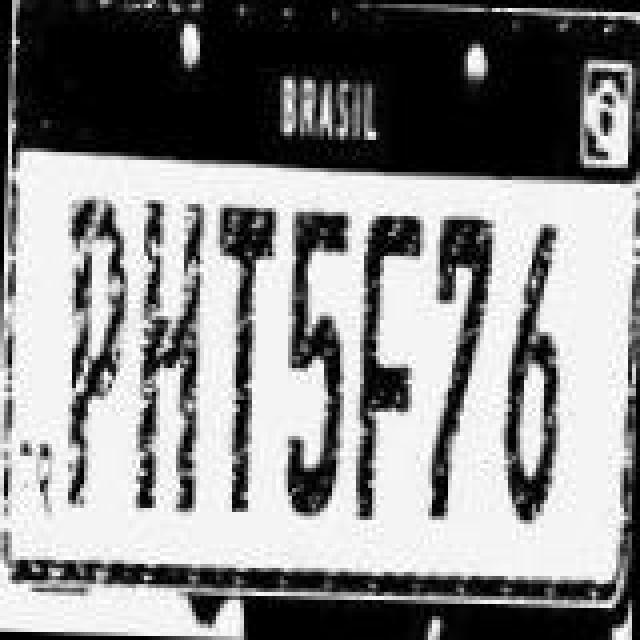5: (274, 202, 354, 518)
6: (494, 216, 574, 536)
7: (420, 206, 496, 522)
F: (346, 206, 434, 526)
H: (128, 192, 220, 516)
P: (52, 192, 136, 512)
T: (198, 194, 278, 514)
